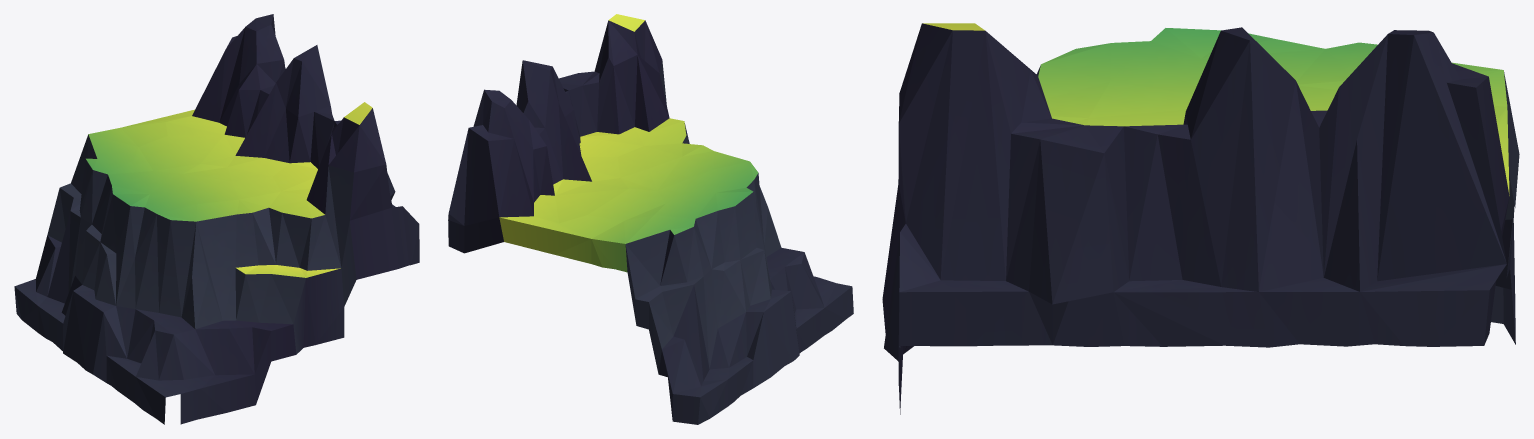
The model's file is Terrain_TownPlateau.fbx.
3 views of the same model, side by side, from view 1: azimuth 30°, elevation 25°; view 2: azimuth 150°, elevation 25°; view 3: azimuth 270°, elevation 25° (orthographic). The views are drawn at different scales.
Visible parts, largest first — view 1: Town; view 2: Town; view 3: Town.
Part boxes in pixels (x1=…): Town: x1=14, y1=14, x2=419, y2=424; Town: x1=448, y1=14, x2=853, y2=424; Town: x1=882, y1=23, x2=1519, y2=414.
Bounding box in the file's own units: 9541 × 8577 × 9433.
2 materials, 2 textured.
